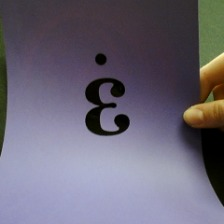violet3: (74, 49, 136, 139)
